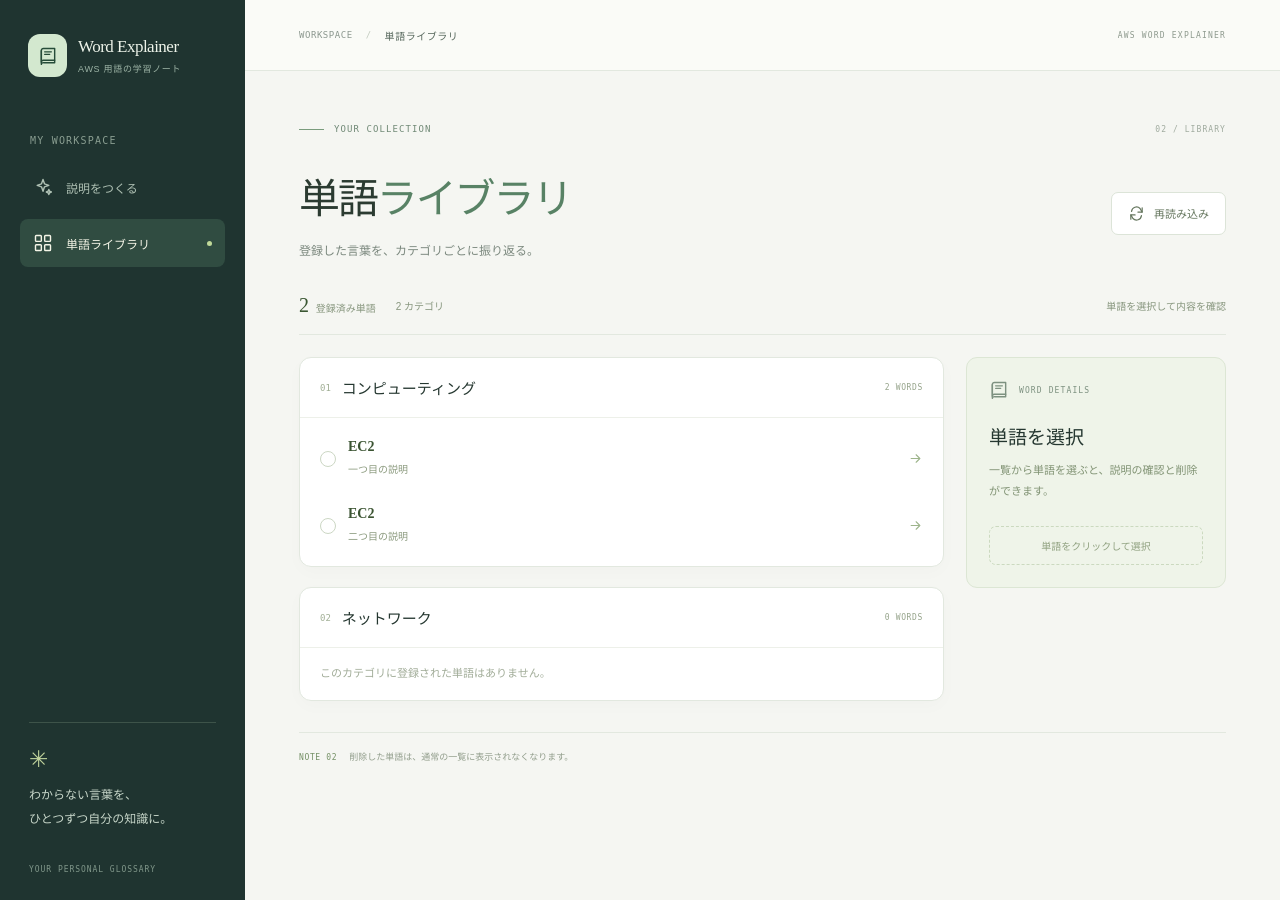
Test: カテゴリ別一覧と削除 › 同名の単語でも選択したIDの1件だけを削除し、キャンセル時にはDELETEしない
Check: the heading "01 コンピューティング" is shown, box [320, 377, 476, 398]
Click the button "EC2 二つ目の説明". click: (378, 537)
box: [307, 492, 936, 559]
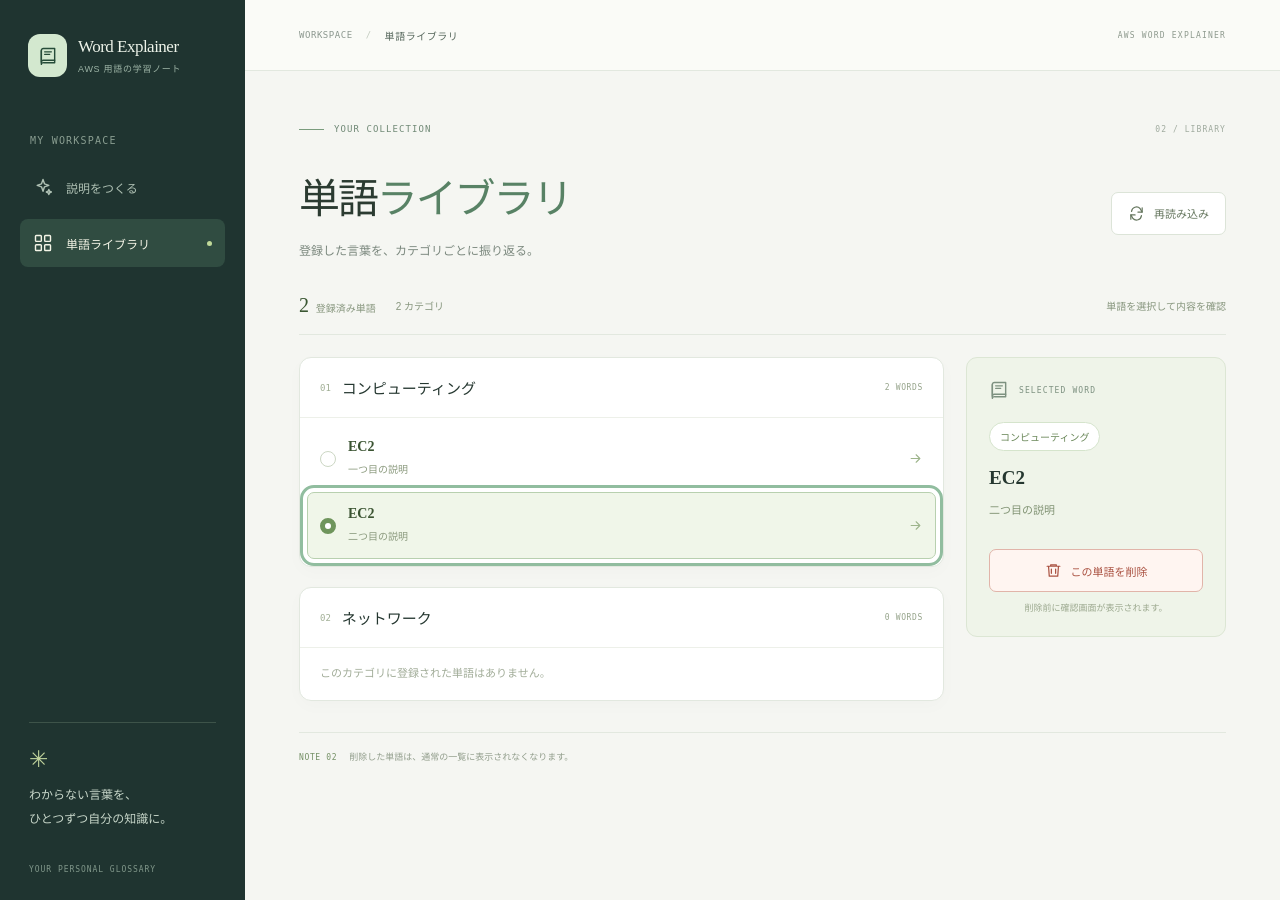
Click the button "この単語を削除". click: (1096, 571)
box: [989, 549, 1203, 592]
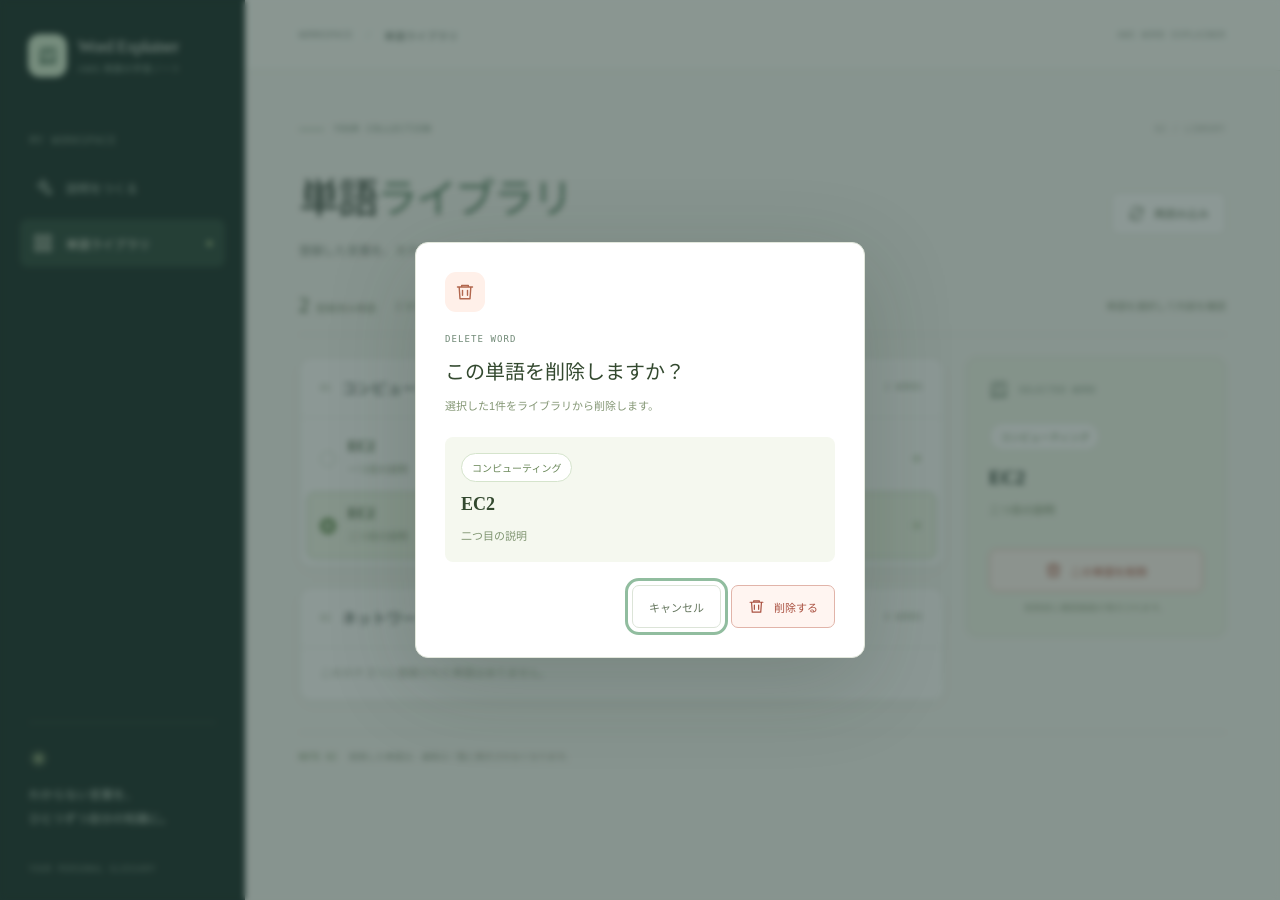
Check: the text "二つ目の説明" is shown, box [461, 530, 527, 542]
Click the button "キャンセル". click: (676, 607)
box: [632, 585, 721, 628]
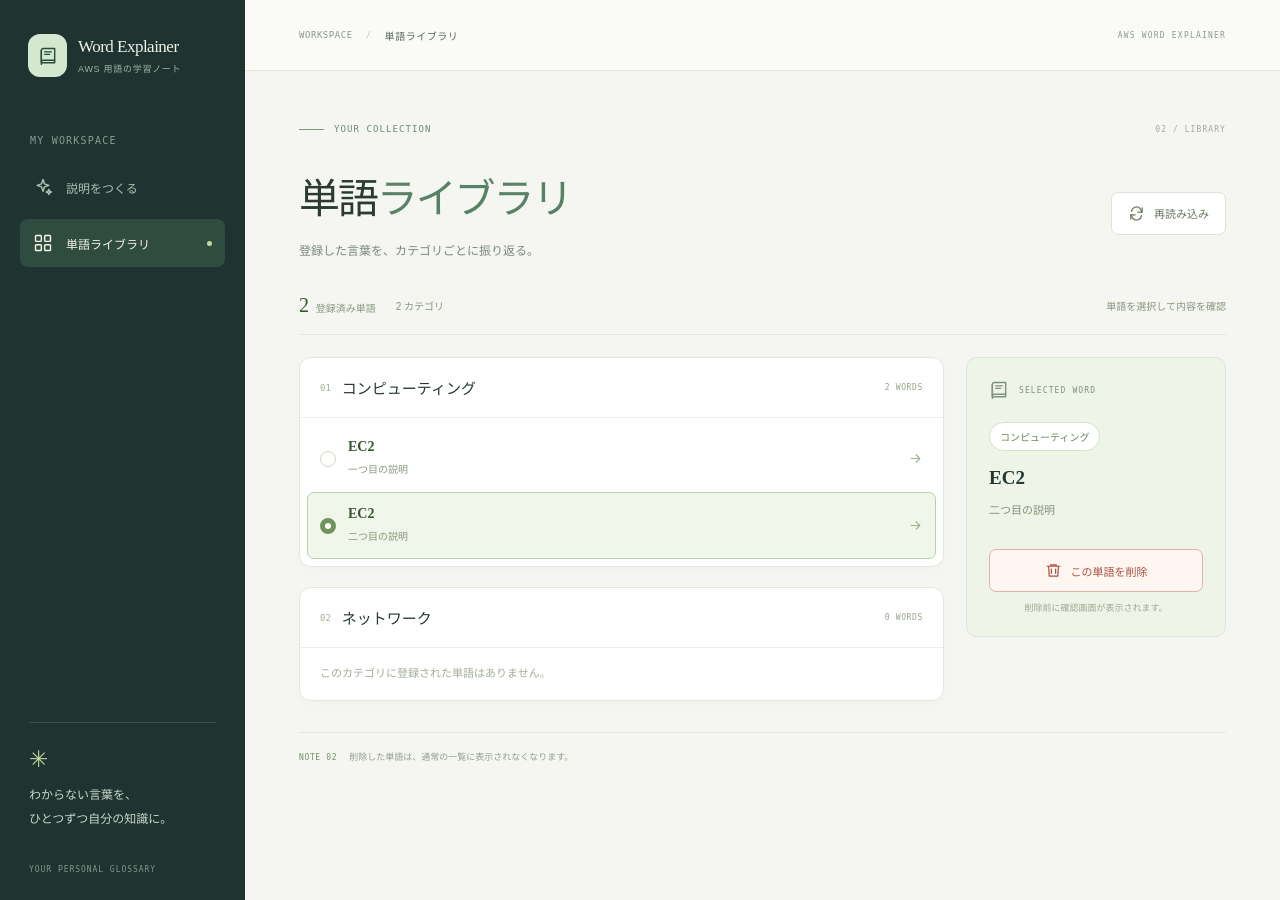
Click the button "この単語を削除". click: (1096, 571)
box: [989, 549, 1203, 592]
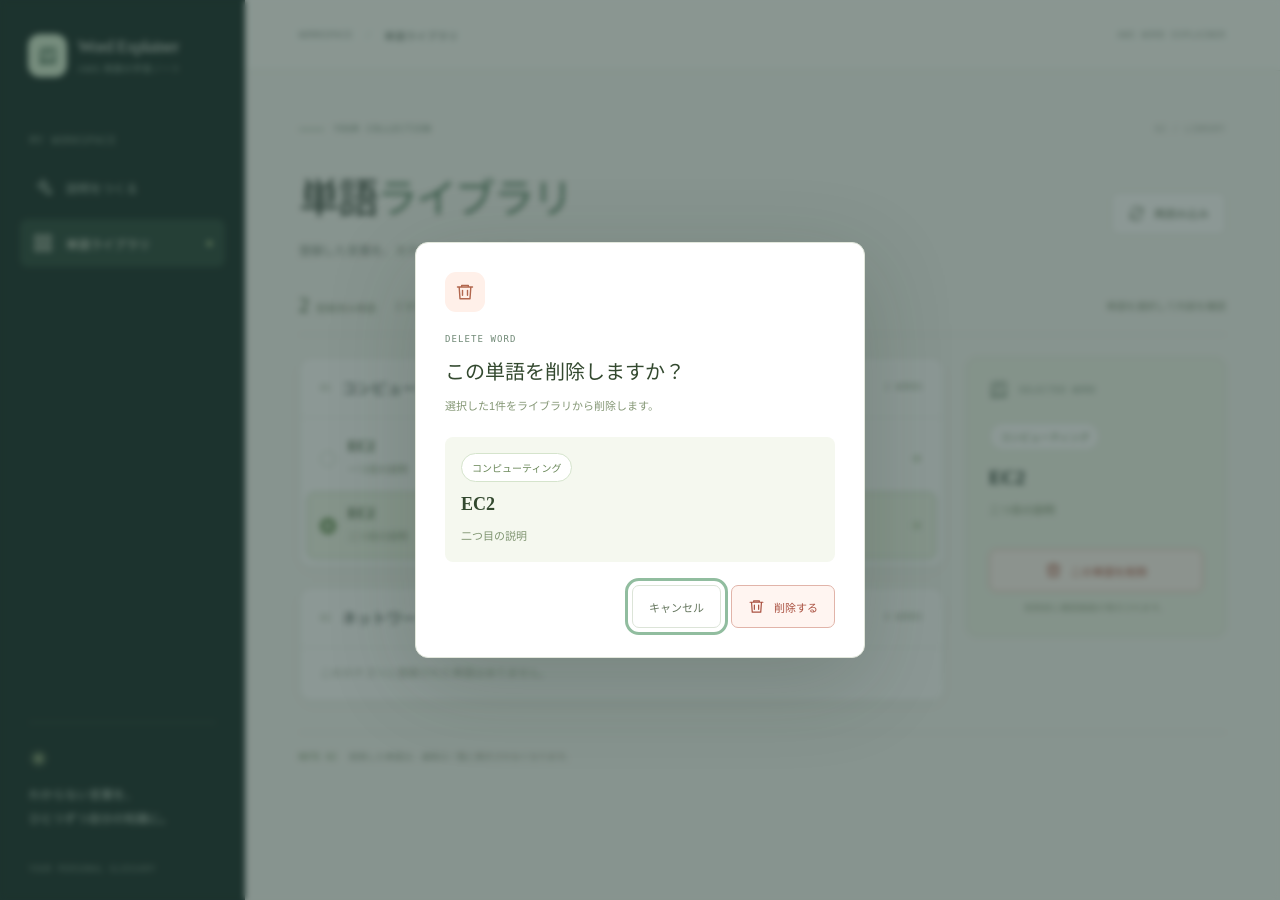
Click the button "削除する". click: (783, 607)
box: [731, 585, 835, 628]
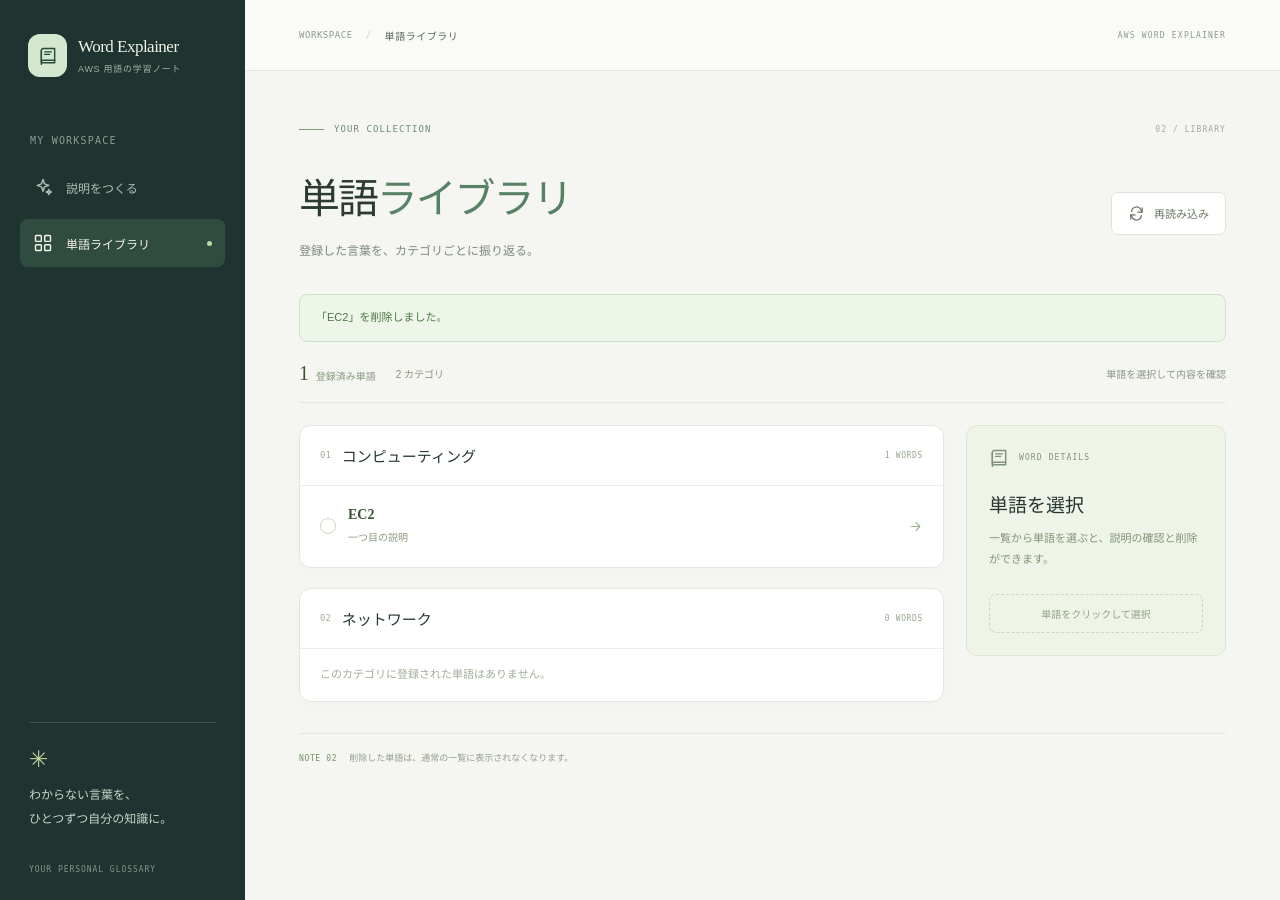
Check: the button "EC2 一つ目の説明" is shown, box [307, 493, 936, 560]
Check: the text "「EC2」を削除しました。" is shown, box [299, 294, 1226, 342]
Check: the button "二つ目の説明" is gone
